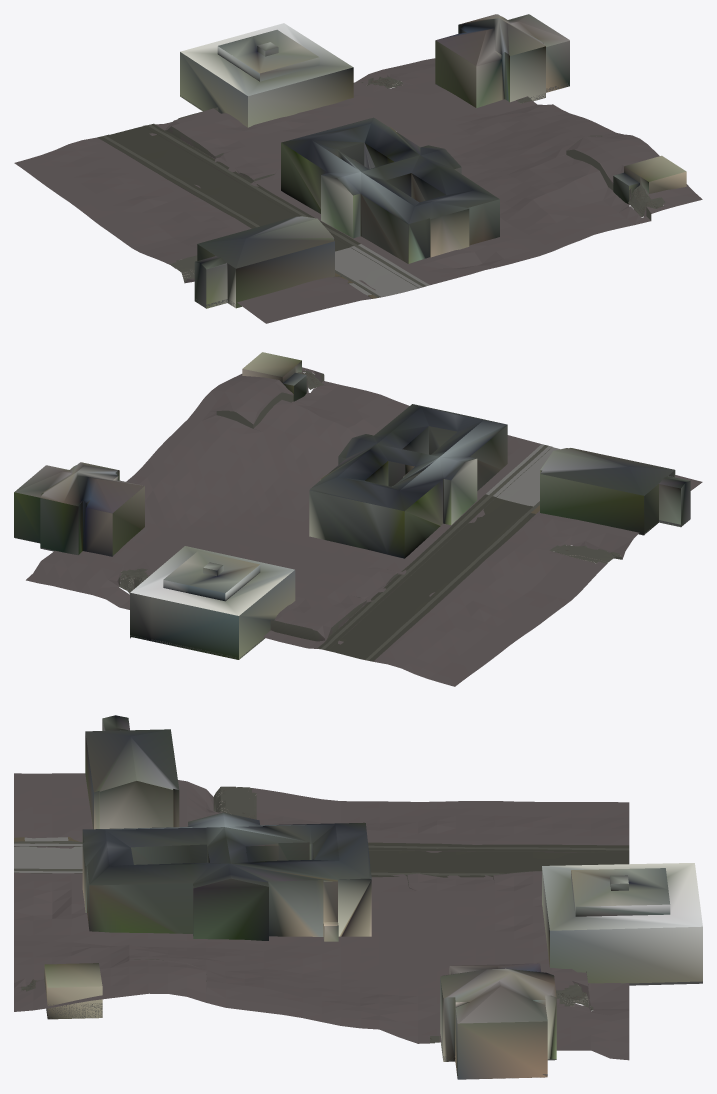
3 renders of one model, top to bottom at view 1: azimuth 30°, elevation 25°; view 2: azimuth 150°, elevation 25°; view 3: azimuth 270°, elevation 25°, orthographic. The views are drawn at different scales.
Visible parts, largest first — view 1: c_m01_m03; view 2: c_m01_m03; view 3: c_m01_m03.
Part boxes in pixels (x1,y1,x2,y2): c_m01_m03: [14, 14, 702, 323]; c_m01_m03: [14, 352, 702, 686]; c_m01_m03: [14, 715, 702, 1079].
Bounding box in the file's own units: 150 × 22.58 × 143.
